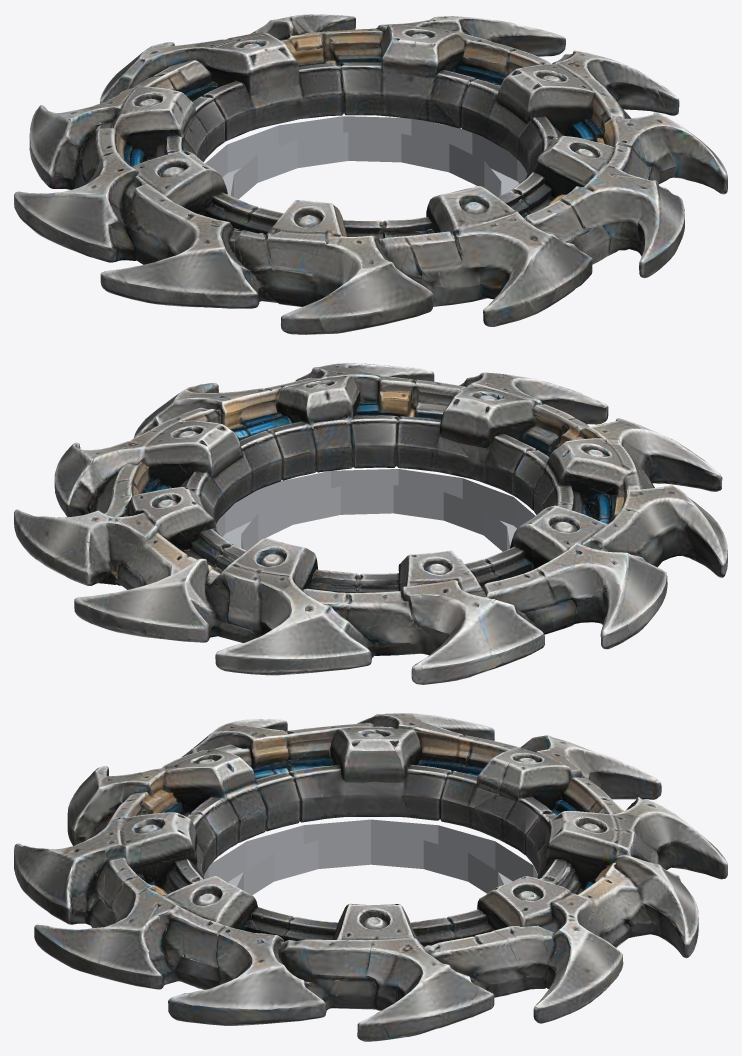
Rendered from hookbill.glb.
3 views of the same model, one above another, from view 1: azimuth 30°, elevation 25°; view 2: azimuth 150°, elevation 25°; view 3: azimuth 270°, elevation 25° (orthographic).
Parts seen in each view (by area): view 1: mesh_node; view 2: mesh_node; view 3: mesh_node.
Part boxes in pixels (bbox=[...]): mesh_node: bbox=[14, 14, 727, 334]; mesh_node: bbox=[14, 363, 727, 684]; mesh_node: bbox=[14, 713, 727, 1041].
Bounding box in the file's own units: 44.7 × 6.96 × 44.69.
2 materials, 1 textured.
